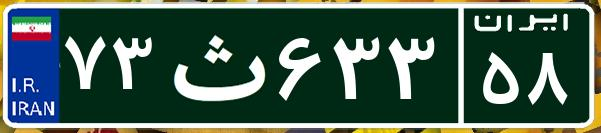3: (385, 28, 445, 110), (330, 28, 385, 110), (110, 28, 158, 105)
5: (475, 38, 525, 113)
6: (273, 28, 330, 110)
7: (57, 26, 110, 107)
8: (525, 38, 570, 115)
ث: (158, 15, 273, 115)
